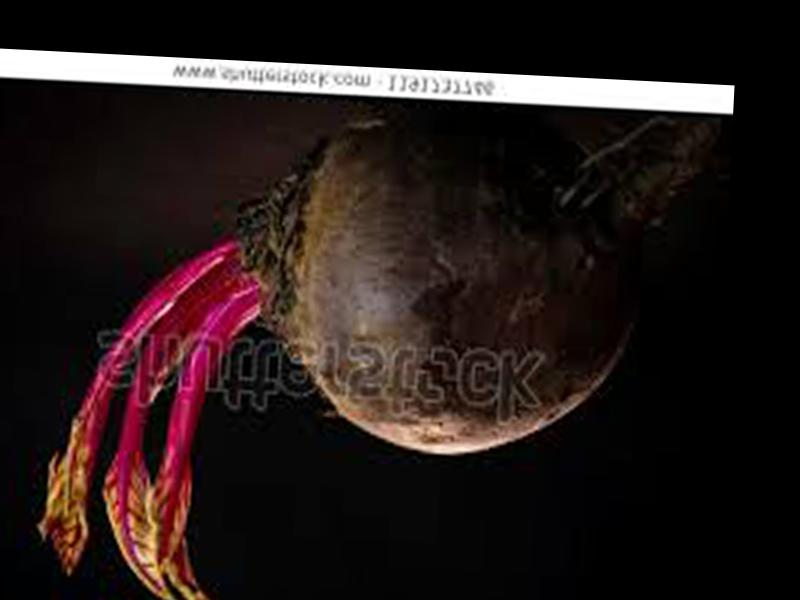Beet: (36, 83, 733, 600)
